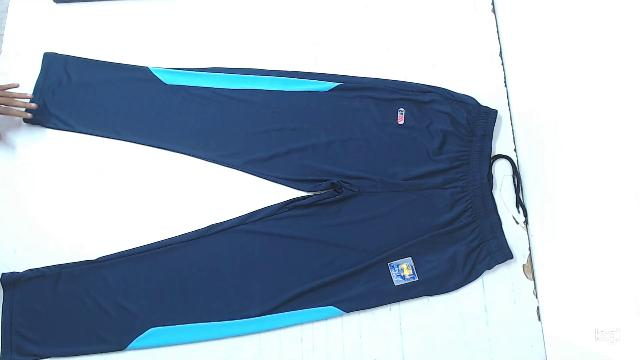new-garment: (2, 53, 512, 360)
